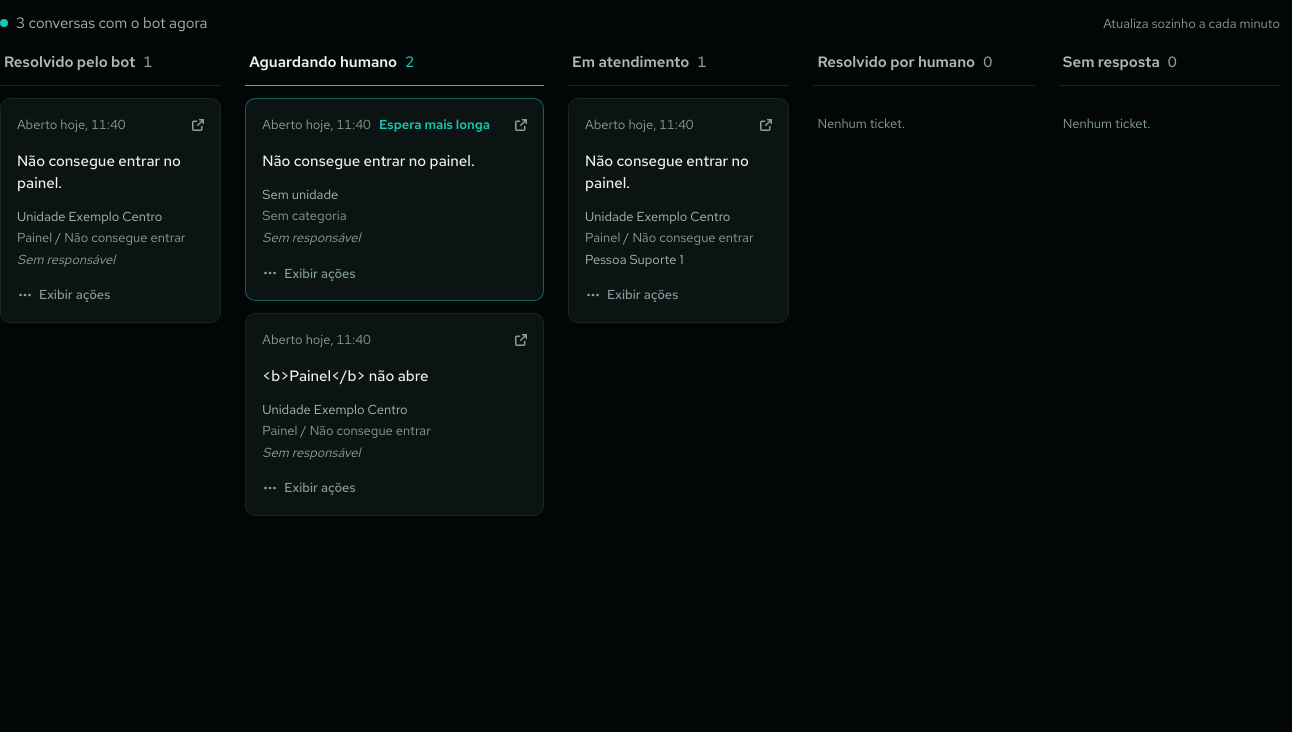
Scenario: BoardView › keeps the card in its column and shows the backend's message when a move fails
Step 1. Click the 4th button "Exibir ações" → [309, 488], box [254,474,364,502]
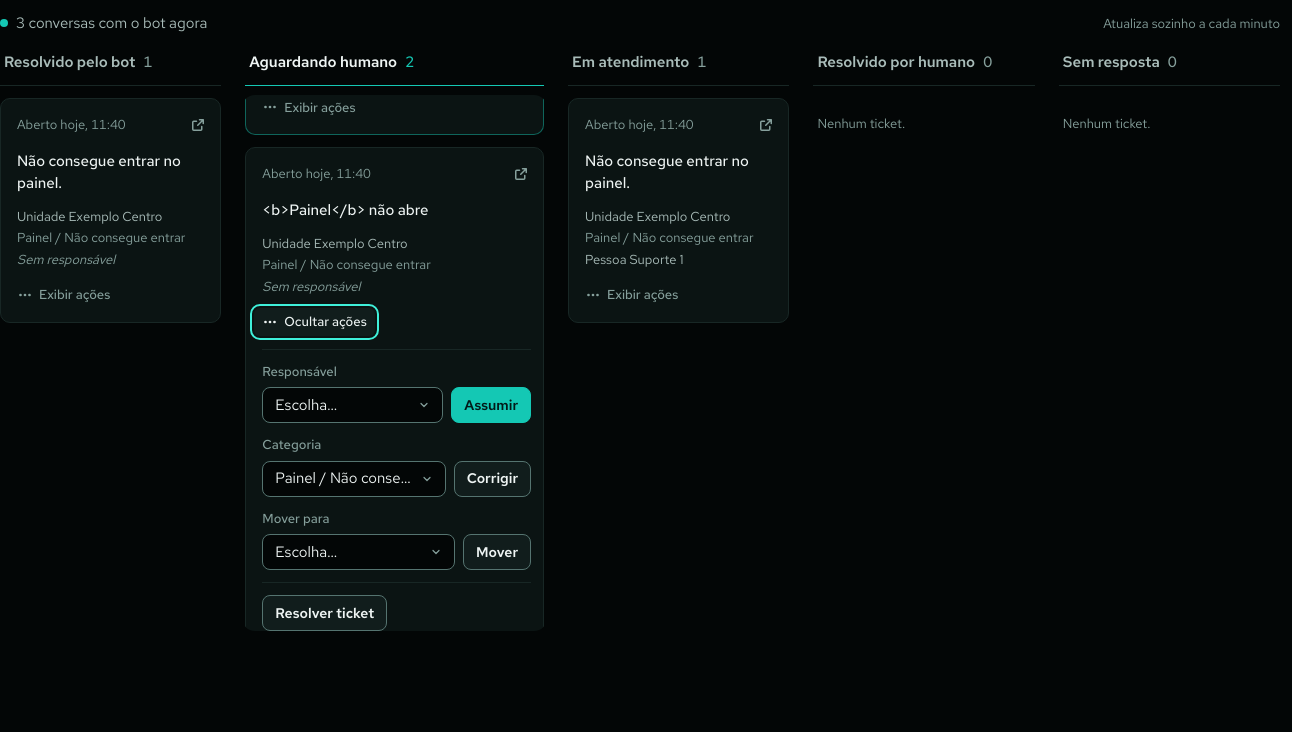
Step 2. Select "Em atendimento" in the dropdown labelled "Mover para" → [359, 552], box [262,534,455,570]
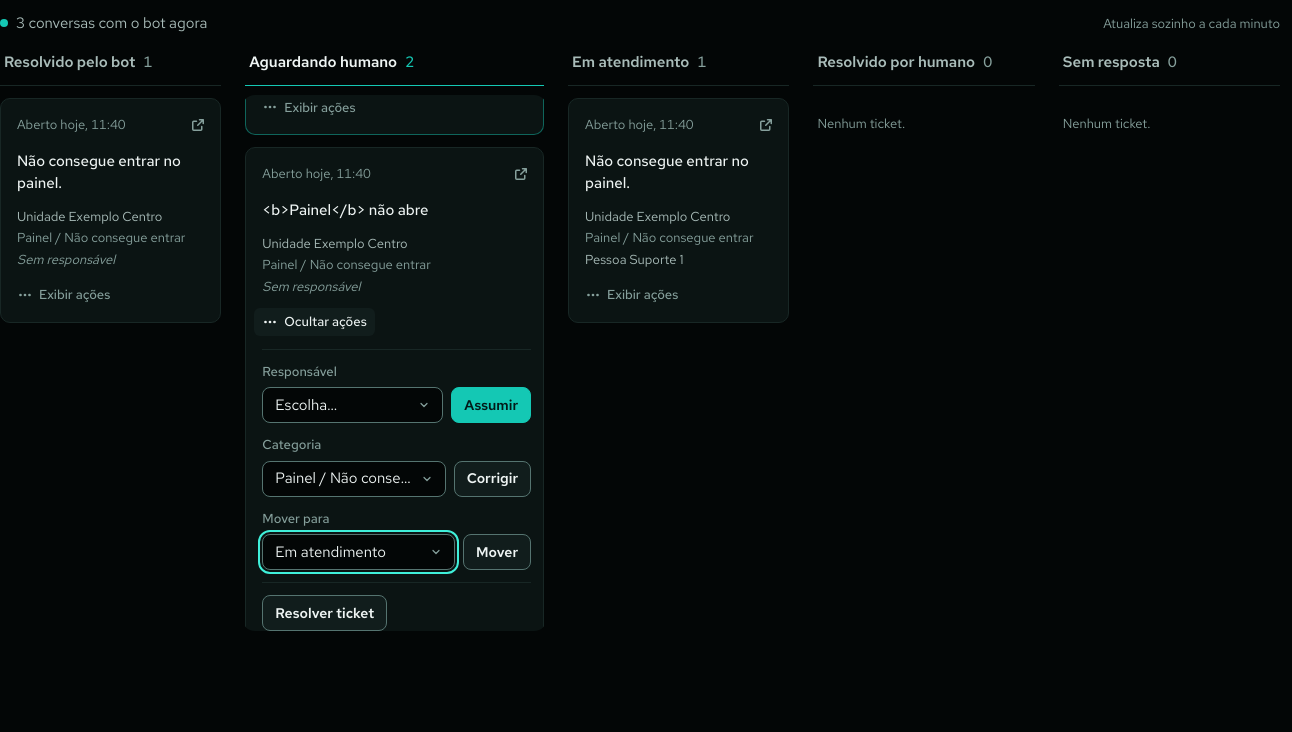
Step 3. Click the button "Mover" → [497, 552], box [463,534,531,570]
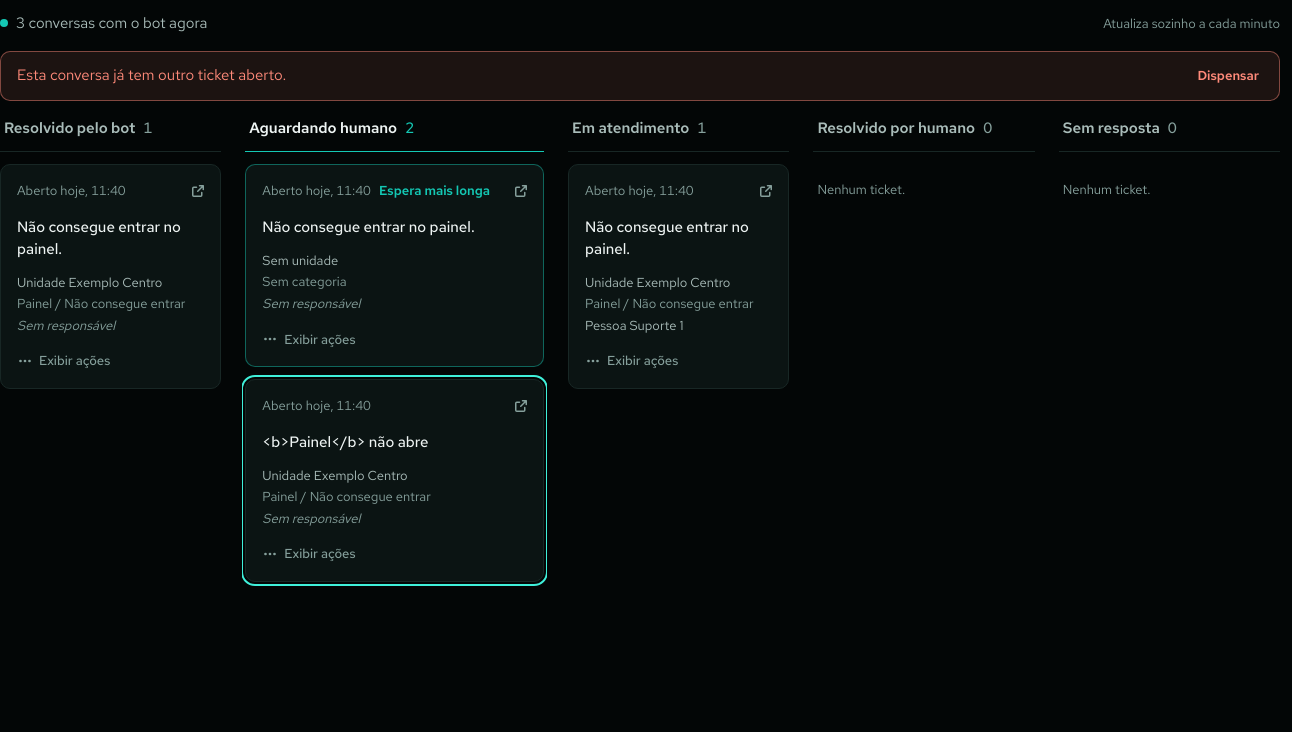
Expected: the element "Aberto hoje, 11:40 <b>Painel</b> não abre Exibir ações" is shown, [245,379,544,582]
Expected: the message shows "Esta conversa já tem outro ticket aberto.", [17,65,286,85]
